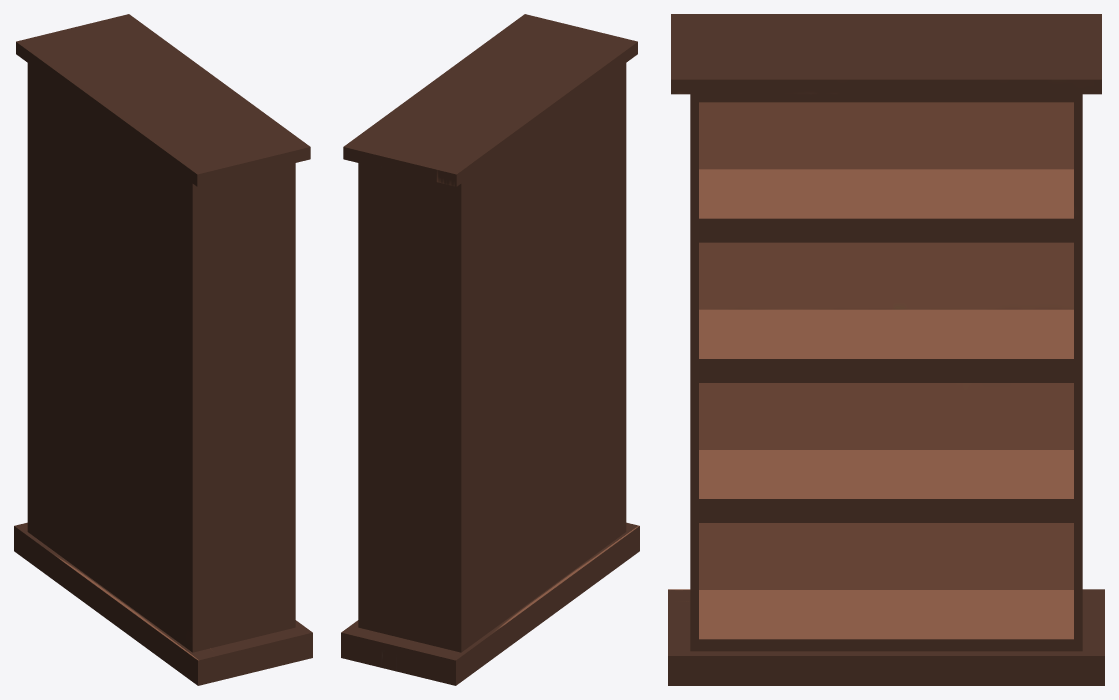
The model's file is BookShelf2.fbx.
The picture shows the model from 3 angles, left to right: view 1: azimuth 30°, elevation 25°; view 2: azimuth 150°, elevation 25°; view 3: azimuth 270°, elevation 25°; orthographic projection. The views are drawn at different scales.
Visible parts, largest first — view 1: Cube; view 2: Cube; view 3: Cube.
Boxes of the visible parts, bbox=[...] form: Cube: bbox=[14, 14, 312, 685]; Cube: bbox=[341, 14, 639, 685]; Cube: bbox=[668, 14, 1104, 685].
Size of the model in its own units: 80.23 by 341 by 223.
